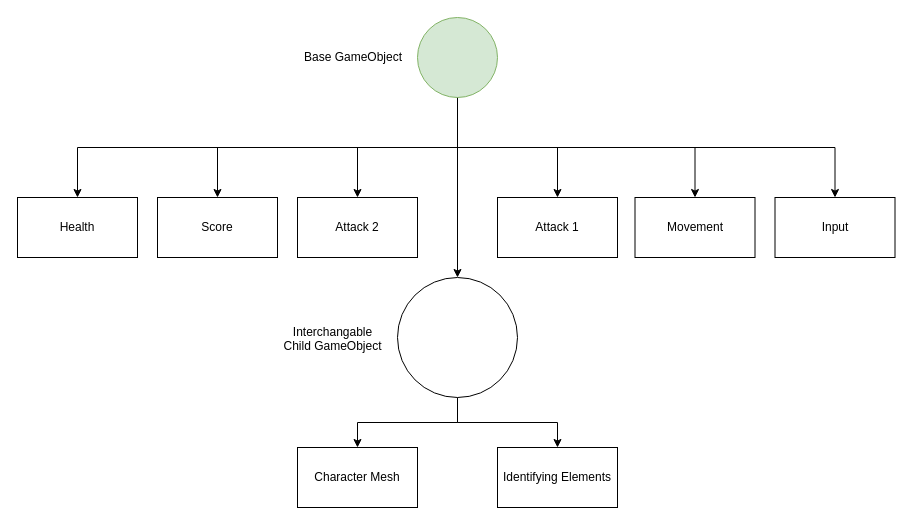
Some shapes in this 913 by 525 pixel diagram are drawn without their labels. Each missing label, with the box of its shape:
Playable Character GameObject: (396, 276, 518, 398)
Player GameObject: (416, 16, 498, 98)
